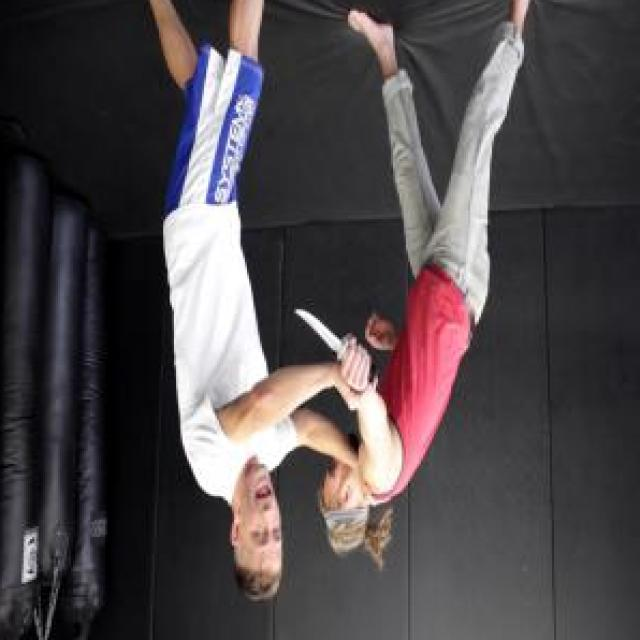knife: (291, 296, 380, 391)
